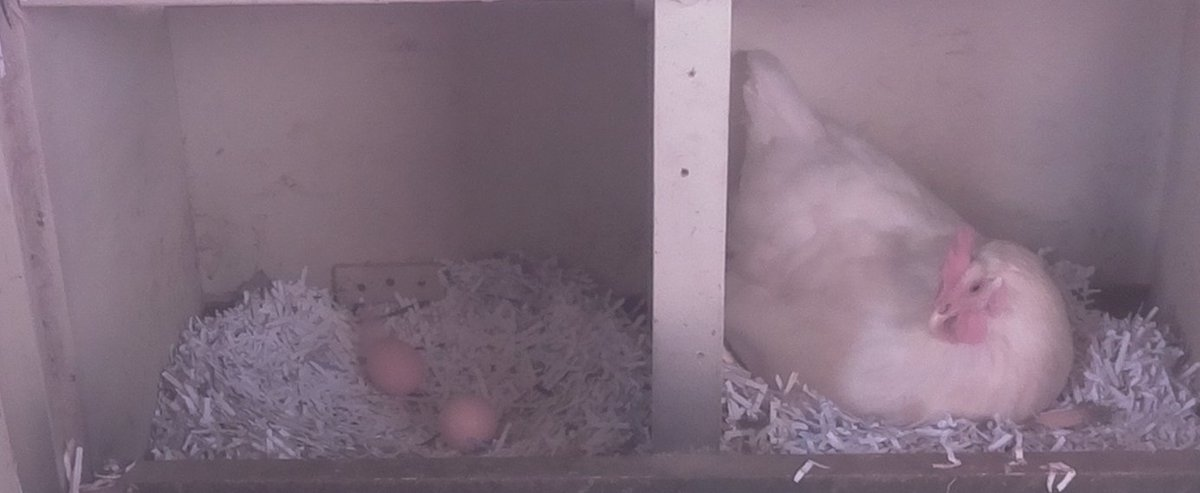egg: (357, 335, 435, 403), (435, 392, 503, 456)
hen: (739, 92, 1080, 431)
